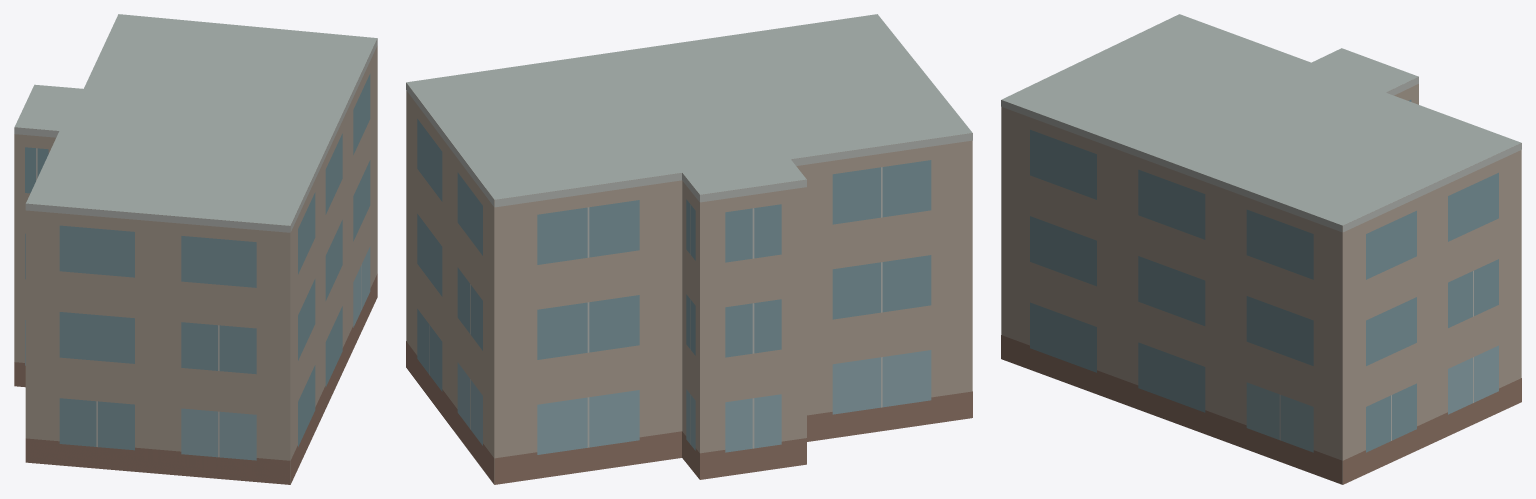
Rendered from survey-upis-32928061.glb.
3 views of the same model, side by side, from view 1: azimuth 30°, elevation 25°; view 2: azimuth 150°, elevation 25°; view 3: azimuth 270°, elevation 25° (orthographic). The views are drawn at different scales.
Parts seen in each view (by area): view 1: survey-upis-32928061.tmp; view 2: survey-upis-32928061.tmp; view 3: survey-upis-32928061.tmp.
Part boxes in pixels (x1,y1,x2,y2): survey-upis-32928061.tmp: [14, 14, 377, 484]; survey-upis-32928061.tmp: [406, 14, 972, 484]; survey-upis-32928061.tmp: [1001, 14, 1521, 484].
Bounding box in the file's own units: 16.03 × 9.15 × 16.66.
